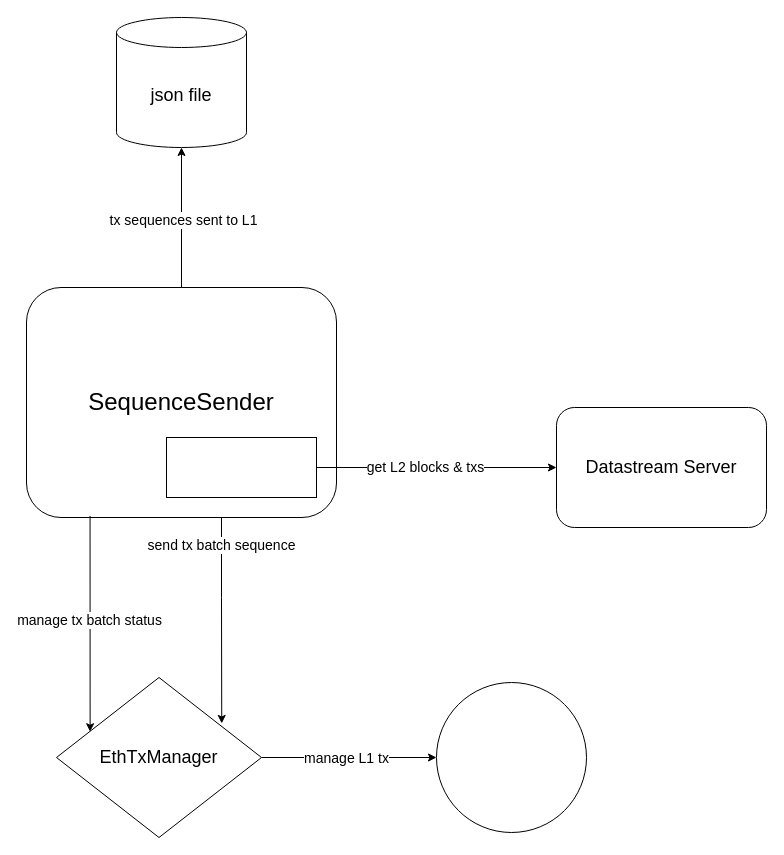
Some shapes in this 784 by 855 pixel diagram are drawn without their labels. The box of each missing label's shape, as (x1, y1, x2, y2) in pixels:
Datastream client: (166, 436, 316, 498)
L1 ETH: (436, 682, 586, 832)
